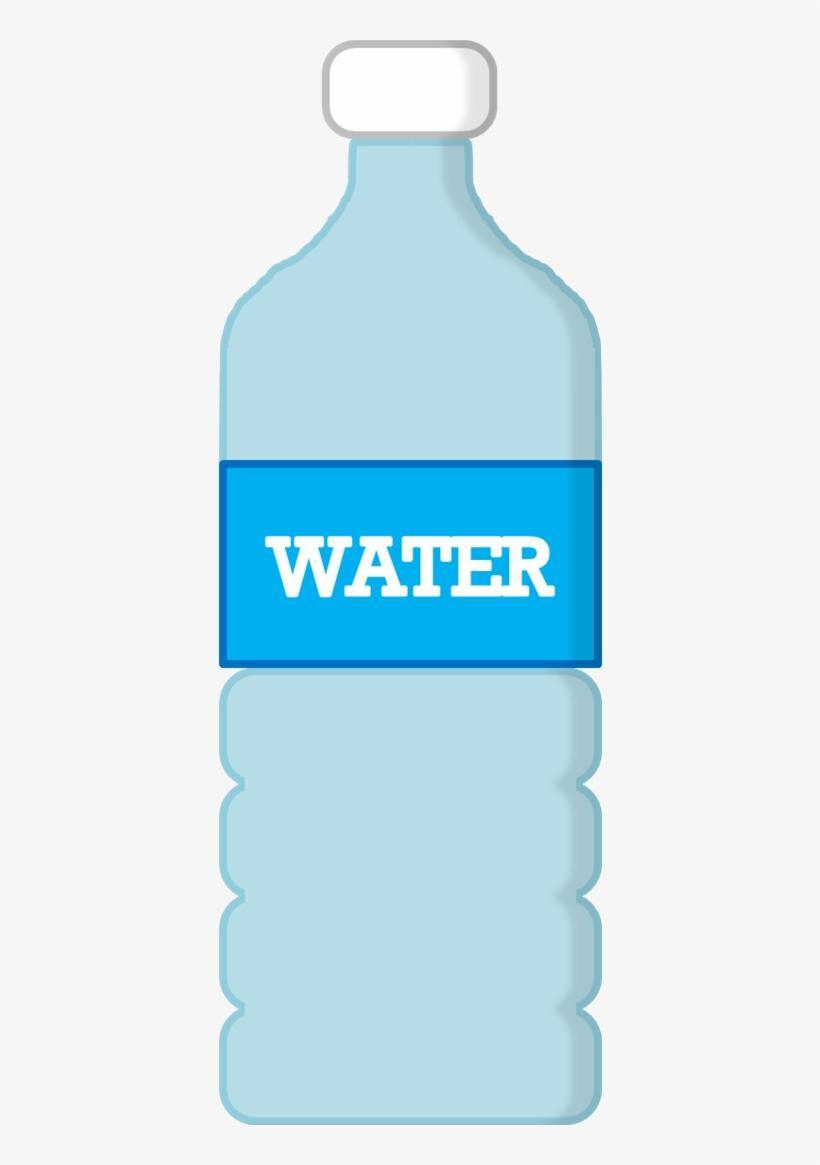bottle: (209, 24, 615, 1133)
